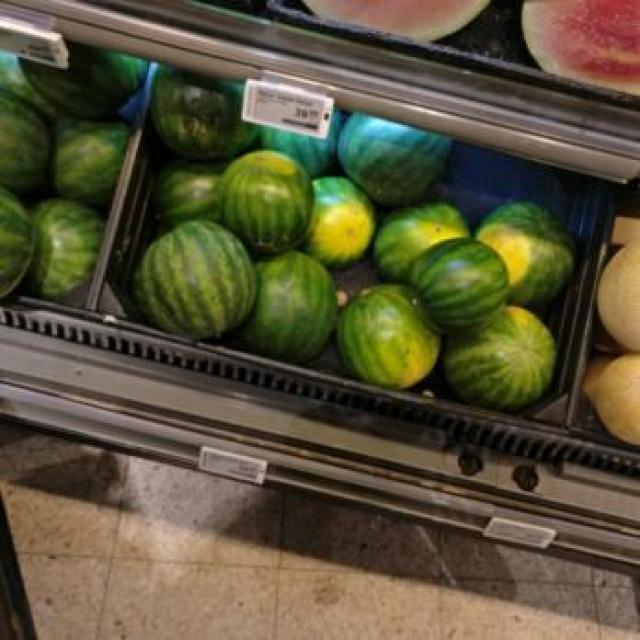Watermelon: (136, 217, 258, 342), (445, 305, 559, 412), (237, 250, 342, 362), (476, 200, 580, 304), (344, 109, 454, 202), (342, 283, 440, 386), (414, 233, 511, 333), (158, 63, 259, 158), (20, 44, 151, 116), (220, 151, 312, 250), (26, 198, 109, 300), (300, 178, 380, 265)
